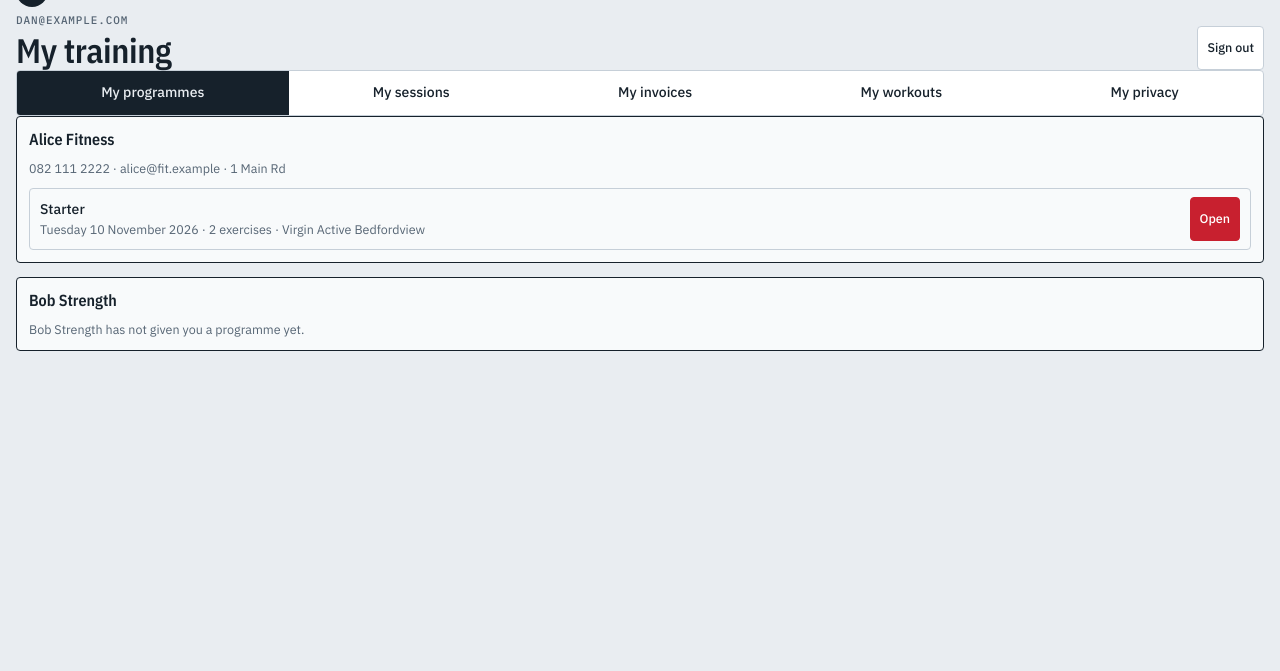
Scenario: the portal privacy page › withdrawing takes two taps and tells the trainer
Click the tab "My privacy".
click(1145, 93)  # box [1026,71,1263,115]
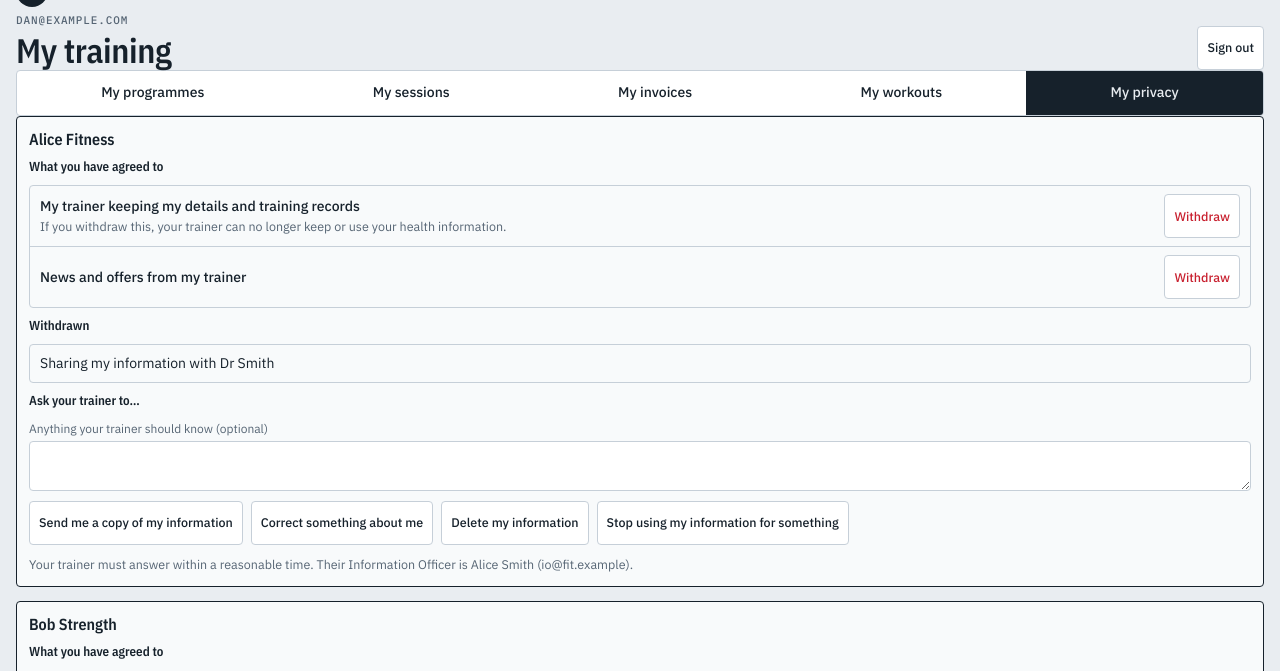
Click the button with aria-label "Withdraw: News and offers from my trainer".
click(1202, 277)  # box [1164,255,1240,299]
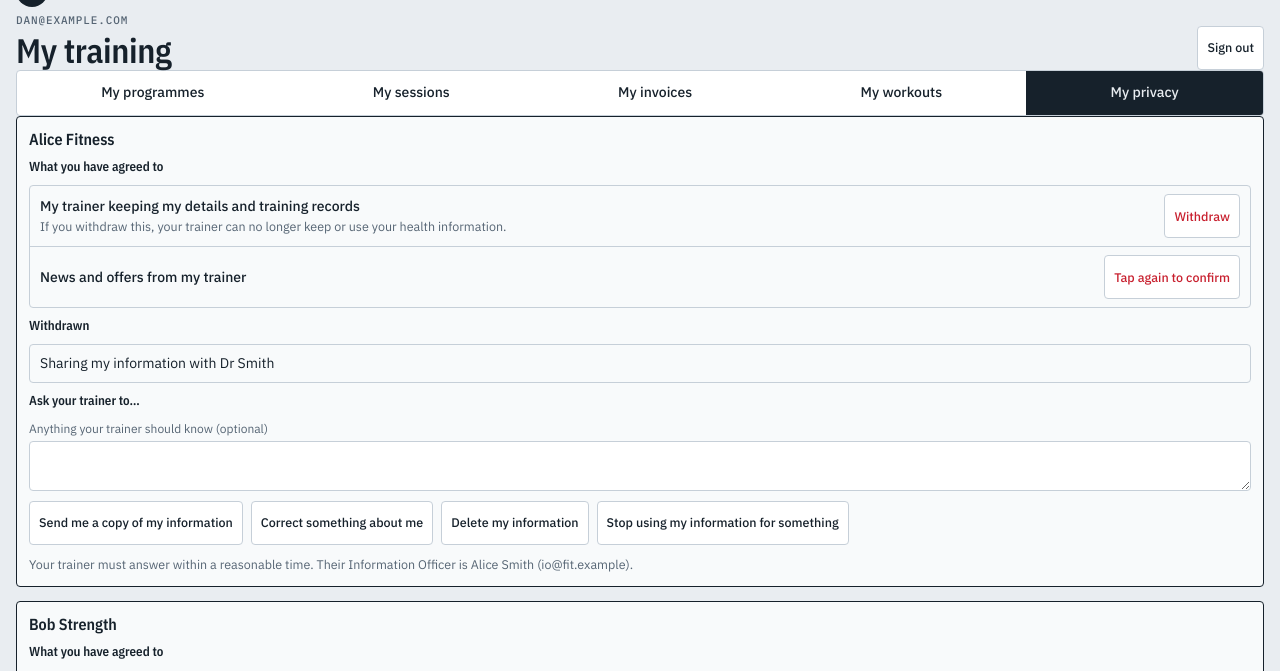
Click the button "Tap again to confirm".
click(1172, 277)  # box [1104,255,1240,299]
(page scrolled)
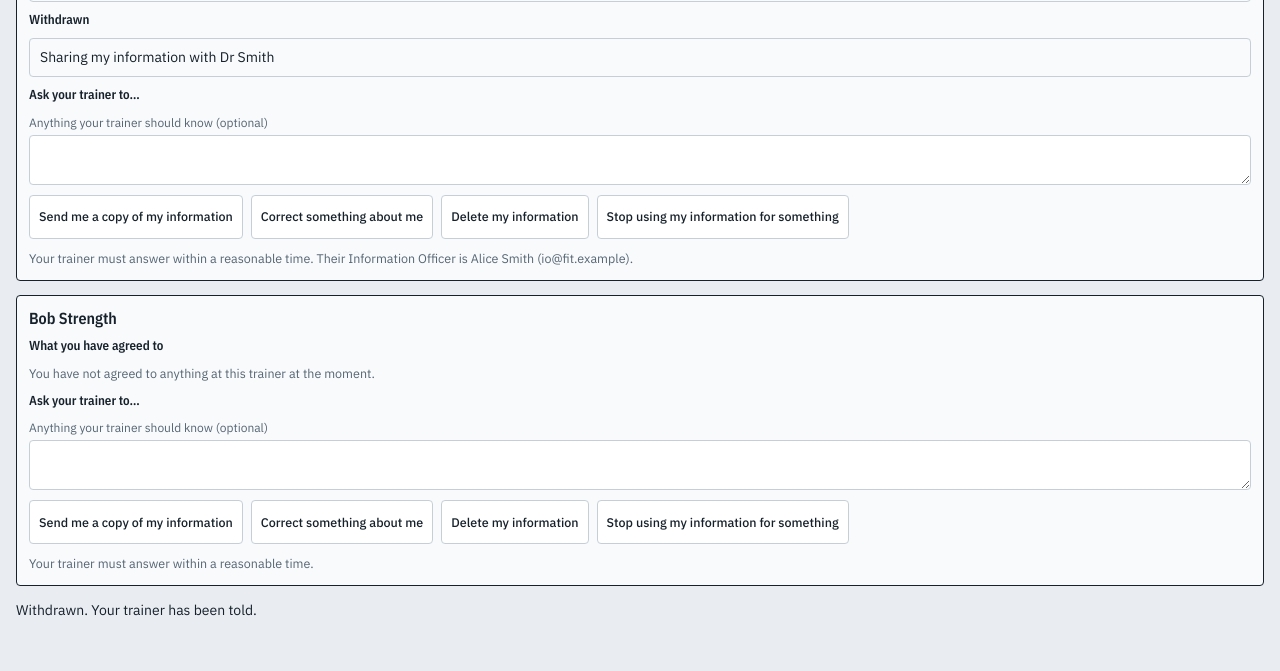
Result: the text "Withdrawn. Your trainer has been told." is shown at [16,601,257,619]
